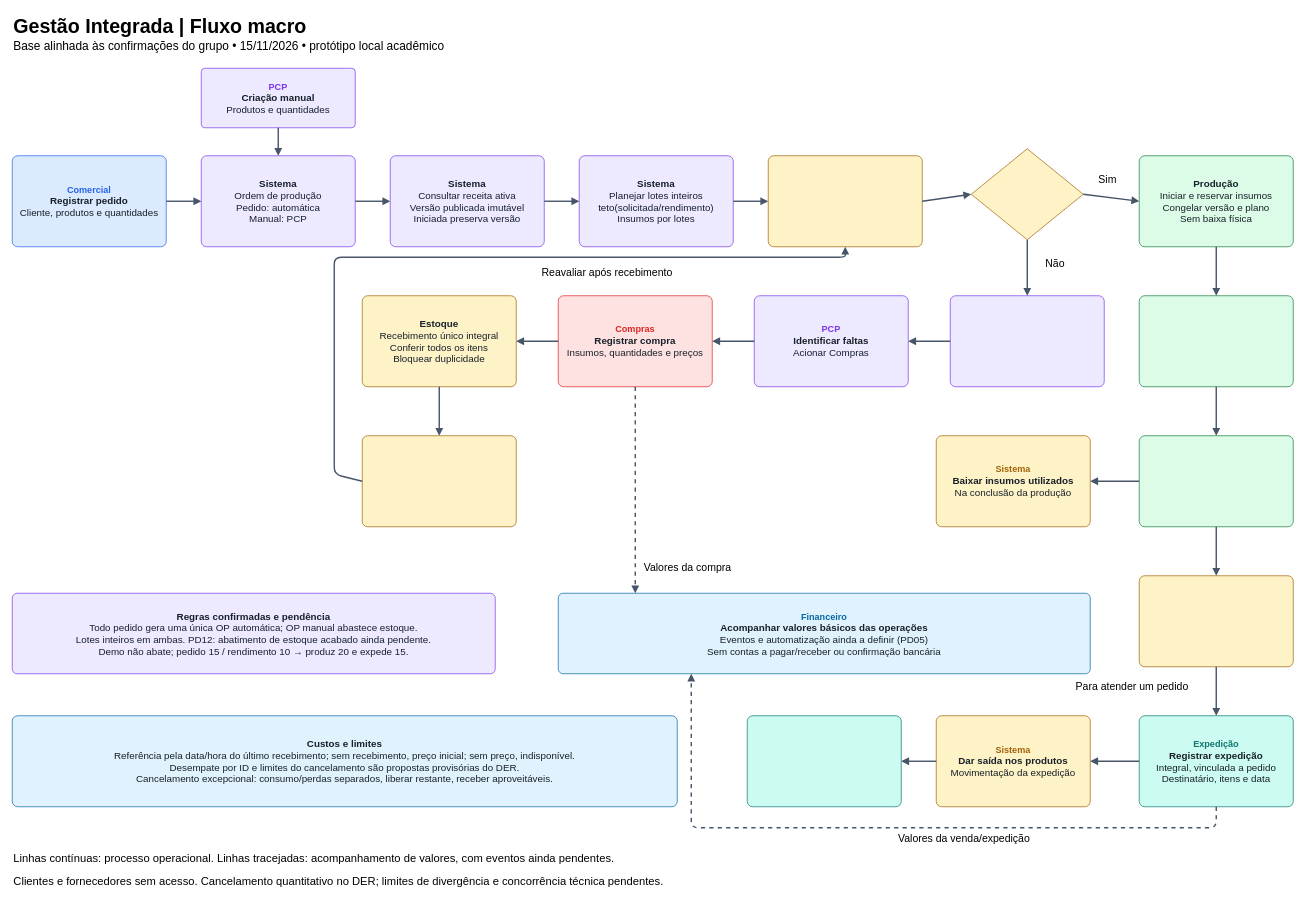
Some shapes in this 1306 by 904 pixel diagram are drawn without their labels. Each missing label, with the box of its shape:
Expedição Fim do atendimento: (747, 715, 901, 807)
Insumos suficientes?: (971, 148, 1083, 240)
PCP Ordem aguarda reposição: (950, 295, 1104, 387)
Produção Concluir ordem integral Sem produção parcial: (1139, 435, 1293, 527)
Produção Etapas por produto da OP Cards não movem estoque: (1139, 295, 1293, 387)
Sistema Entrada integral planejada Excedente fica em estoque: (1139, 575, 1293, 667)
Sistema Entradas de insumos Preço por recebimento Reavaliar disponibilidade: (362, 435, 516, 527)
Sistema Verificar disponibilidade Insumos necessários à ordem: (768, 155, 922, 247)
